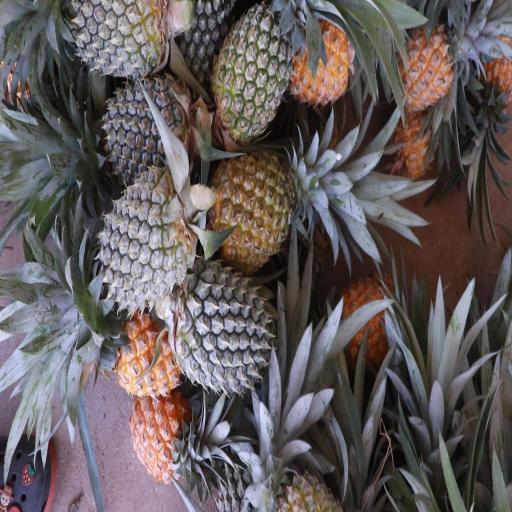------------------------------: (212, 148, 304, 262), (214, 6, 294, 132)
Pineapple - v8 v1: (107, 306, 181, 398), (127, 394, 191, 480), (339, 278, 395, 376), (398, 24, 460, 109), (291, 18, 354, 100)
